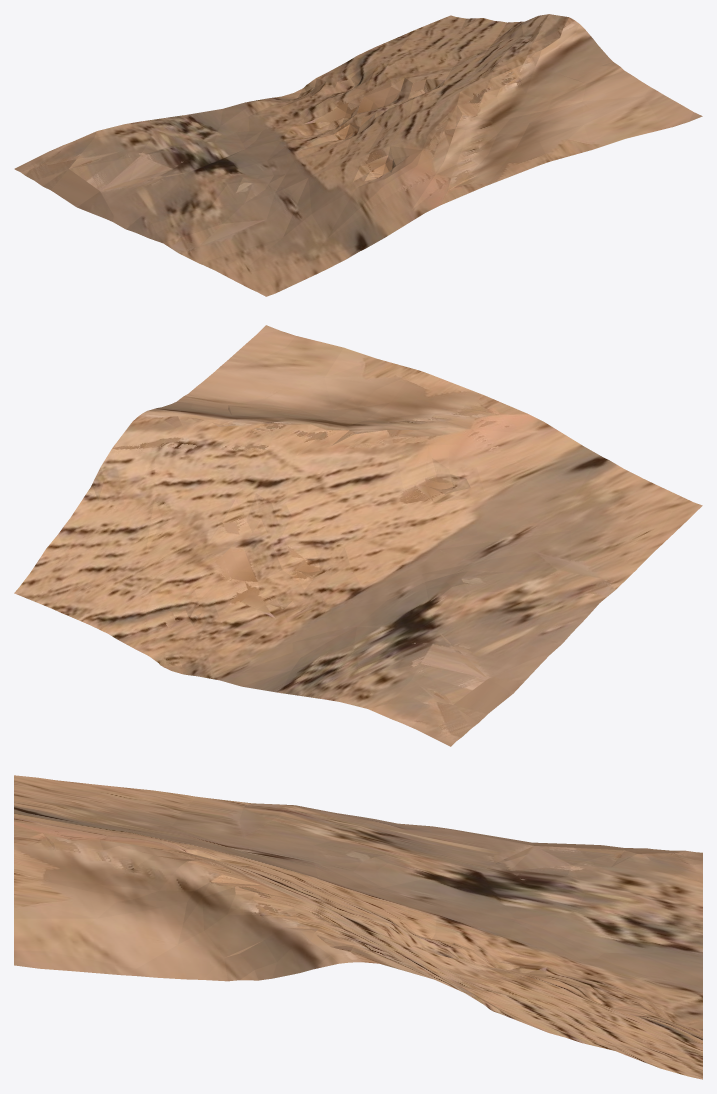
3 views of the same model, one above another, from view 1: azimuth 30°, elevation 25°; view 2: azimuth 150°, elevation 25°; view 3: azimuth 270°, elevation 25° (orthographic). The views are drawn at different scales.
Bounding box in the file's own units: 1.04 × 0.3037 × 1.04.
Materials: 2 (2 with a texture image).
